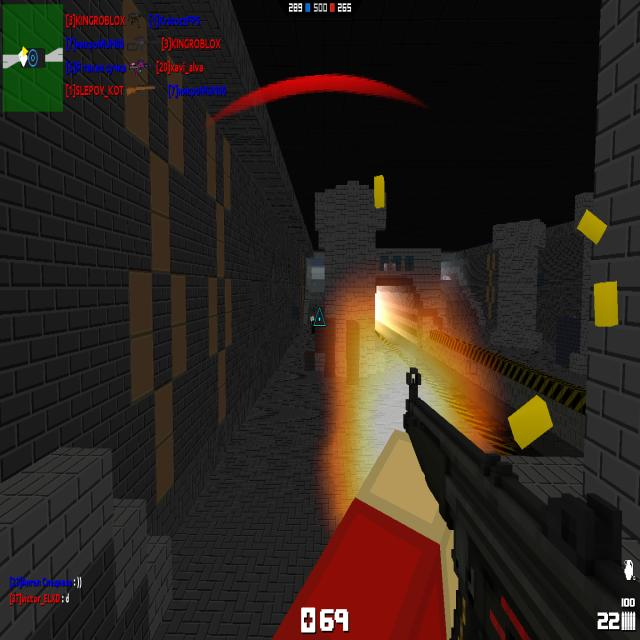enemy: (308, 315, 317, 335)
